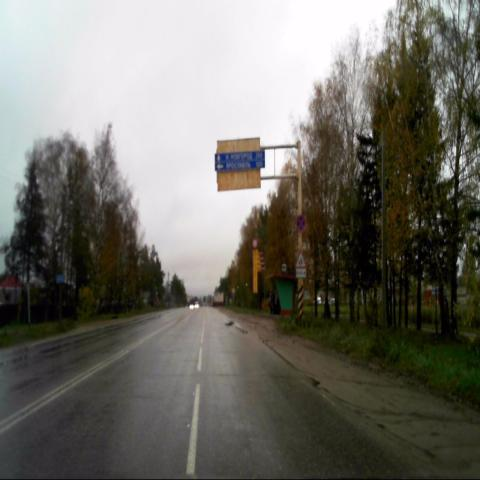3_27: (295, 213, 306, 232)
